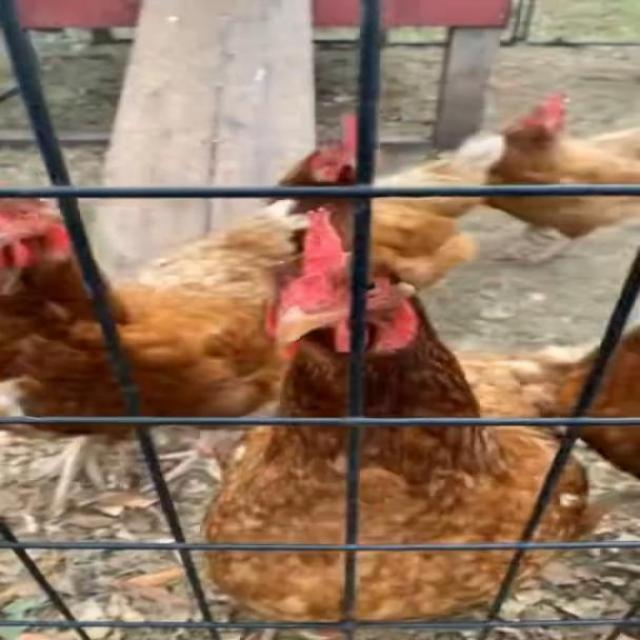Chicken: (203, 209, 603, 622), (0, 182, 314, 513), (266, 115, 506, 290), (477, 93, 640, 264), (554, 323, 640, 480)
